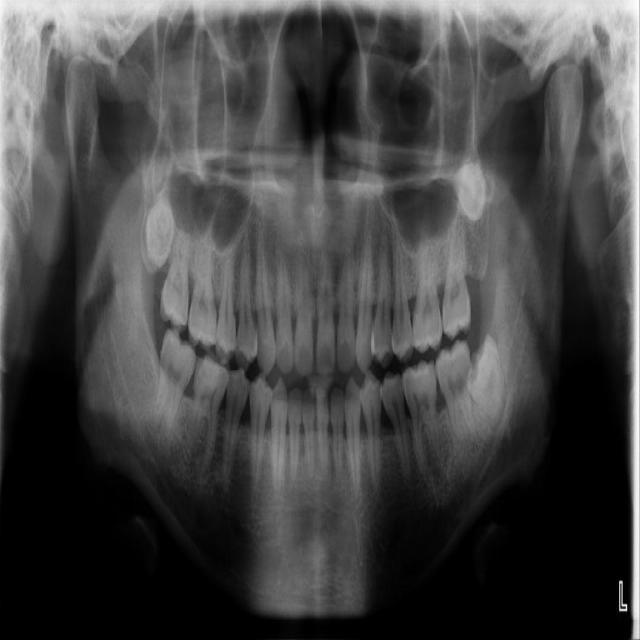3M ESPE Implant: (145, 196, 175, 268)
73: (617, 588, 625, 604)
BioHorizons Implant: (442, 215, 471, 342)
BioLife Implant: (448, 160, 495, 225)
Biomet 3i Implant: (455, 332, 517, 432)
Blue Sky Bio Implant: (432, 337, 478, 444)
Caries: (159, 219, 193, 333)
Implant: (148, 323, 201, 441)
